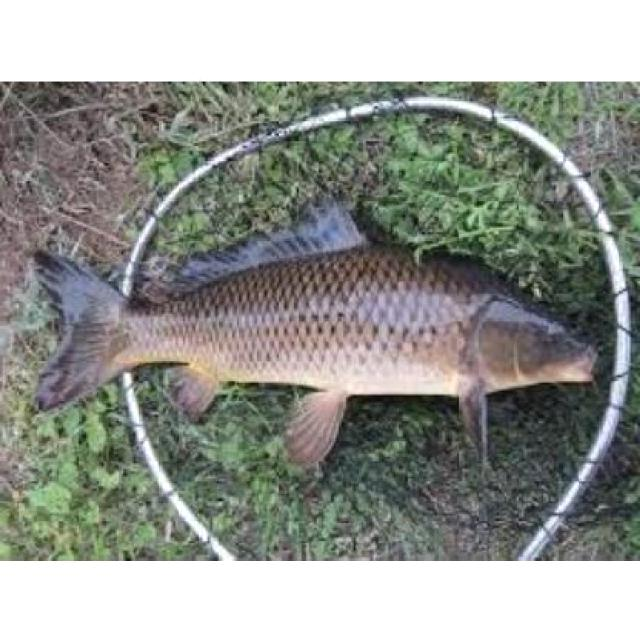ikan-mas: (29, 238, 602, 430)
